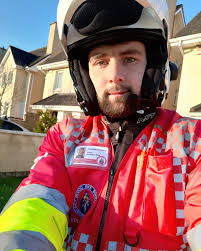com_capacete: (54, 1, 174, 125)
